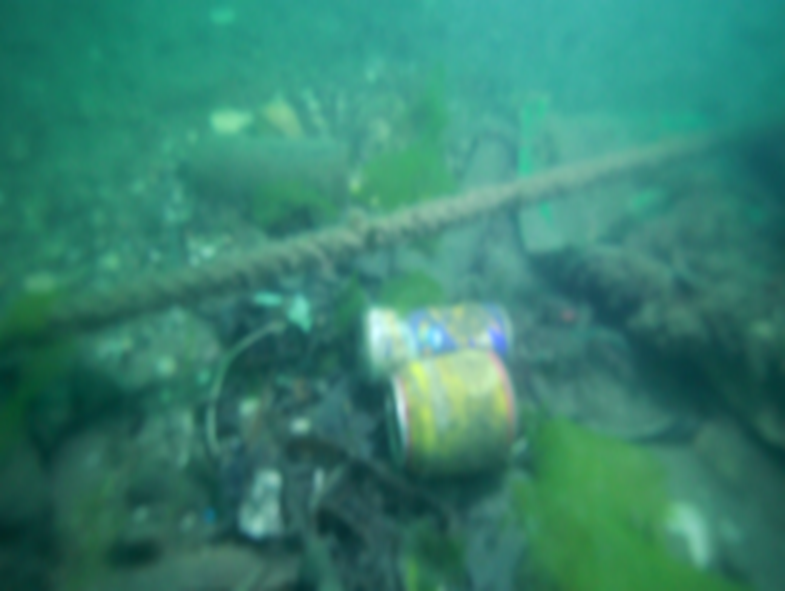rope: (6, 98, 785, 358)
